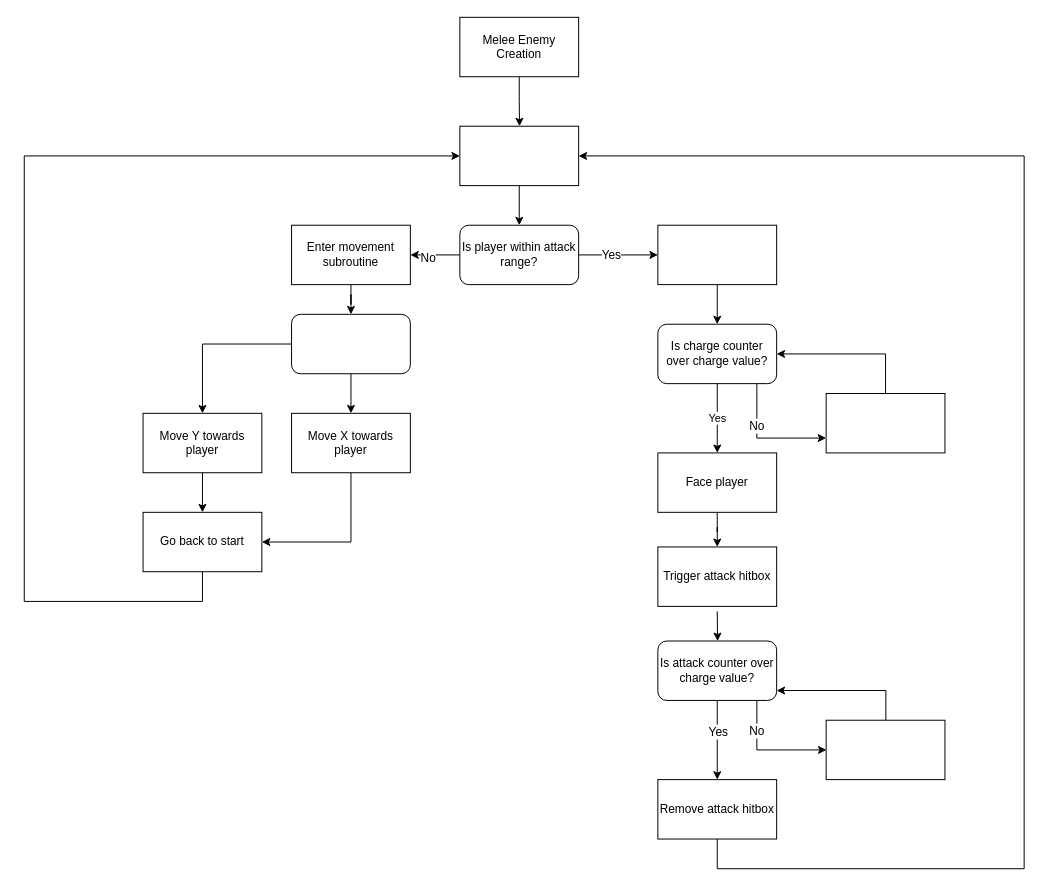
Image size: 1049x894. Some labels were removed from this diagram. The shapes that lost their labels are listed below. From the top down, each one's centre as x and y in pixels, then its label:
At [519,155]: "Calculate distance to player".
At [717,254]: "Enter charge subroutine".
At [350,343]: "Is x distance larger than y distance?".
At [885,423]: "Increment charge timer".
At [885,749]: "Increment attack timer".
